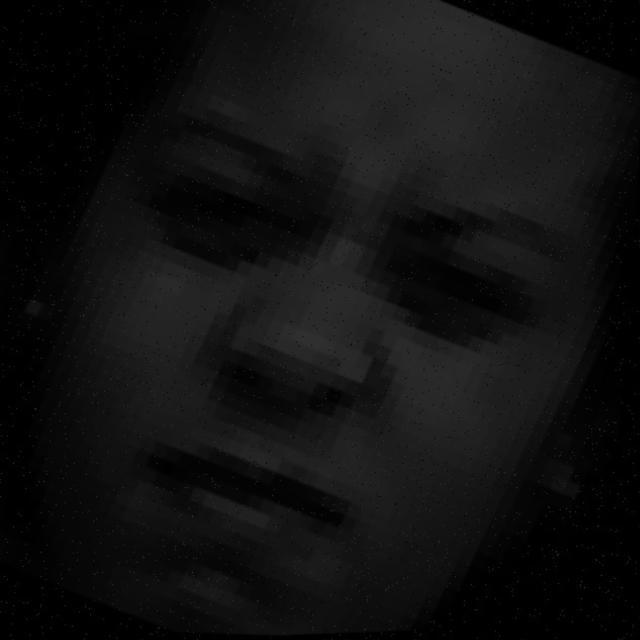Disgust: (72, 40, 620, 614)
